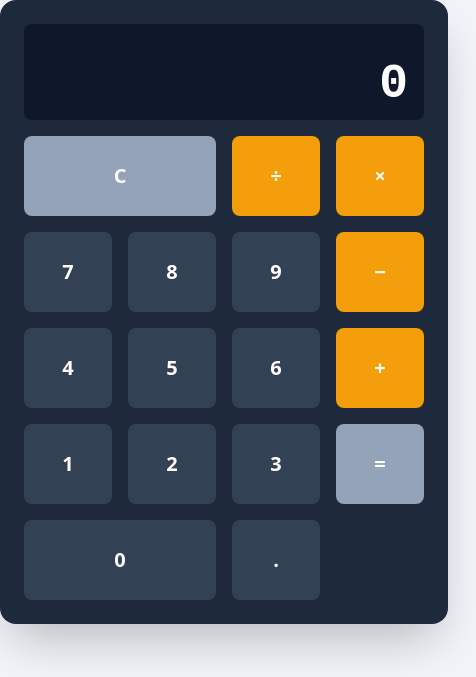
Calculator — basic calculation flow (US1) › registers operator and starts fresh operand
Click the button "4". click: (68, 368)
box: [24,328,112,408]
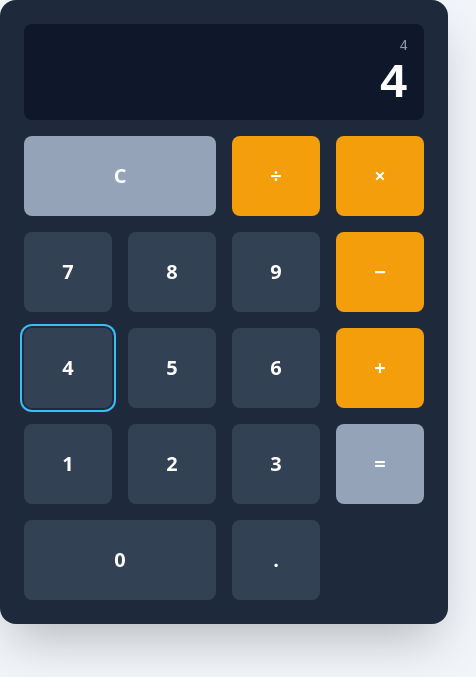
Click the button "+". click: (380, 368)
box: [336,328,424,408]
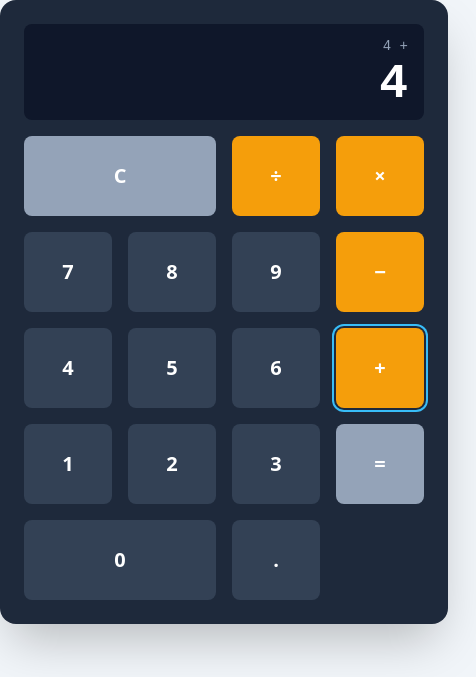
Click the button "3". click: (276, 464)
box: [232,424,320,504]
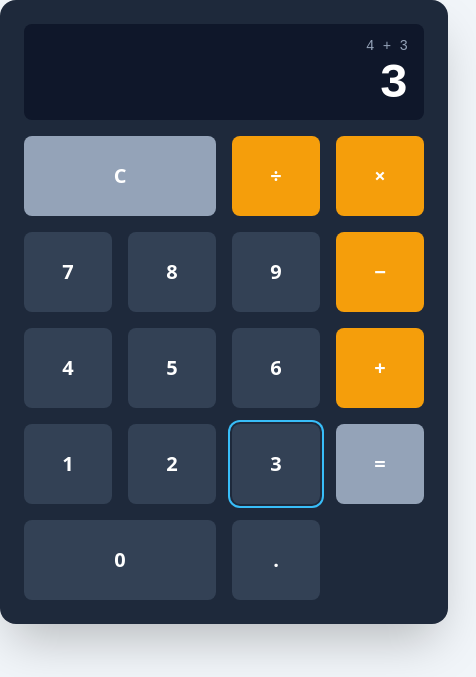
Click the button "=". click: (380, 464)
box: [336,424,424,504]
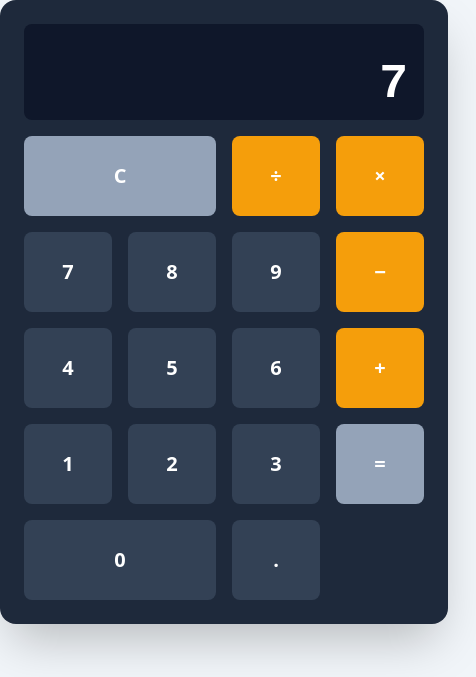
Expected: the element with test id "calculator-display" reads "7", [379,57,408,111]
